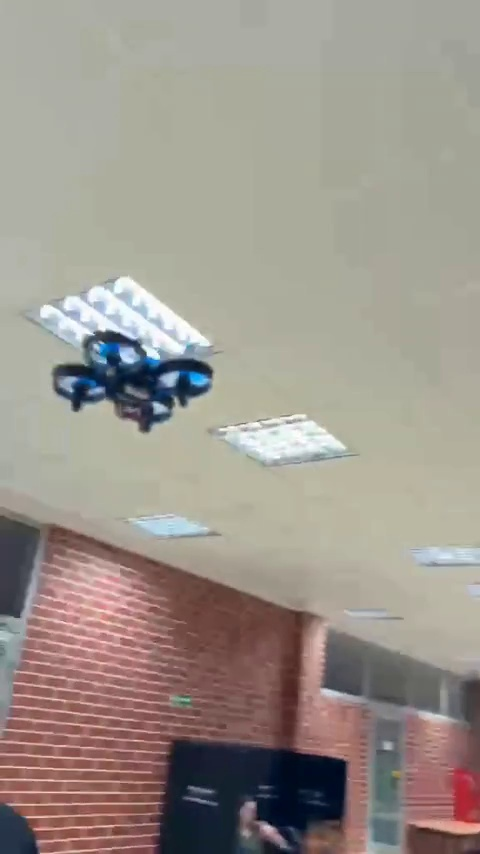drone: (47, 333, 211, 426)
